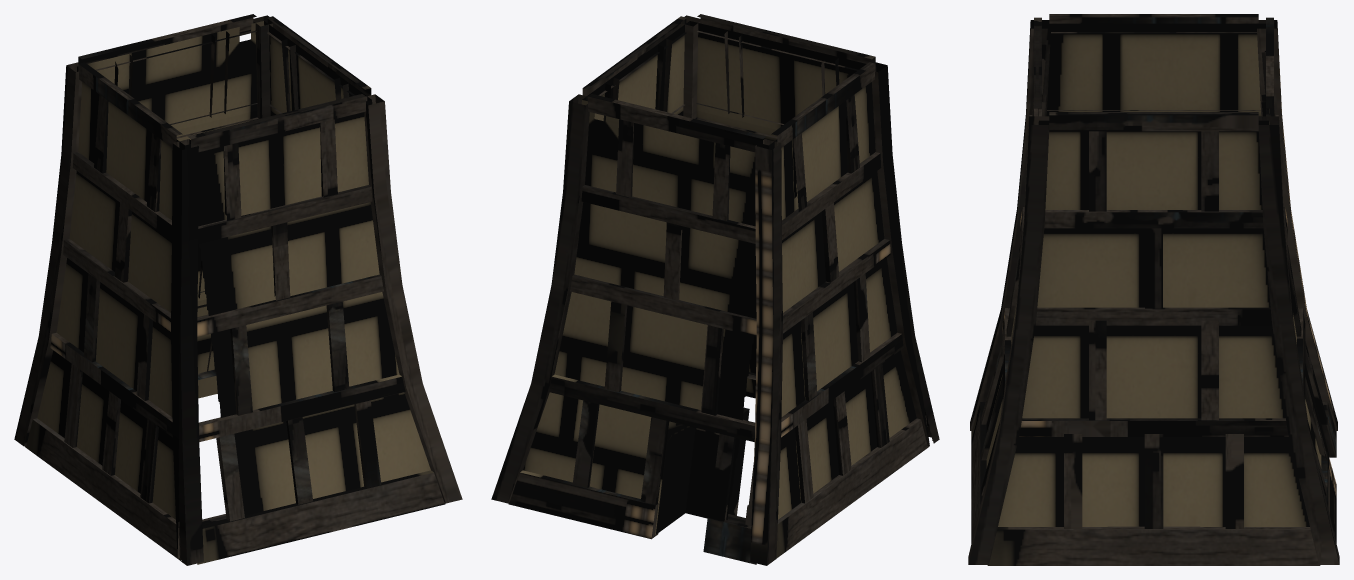
File: MS_Windmill4.fbx
The picture shows the model from 3 angles, left to right: view 1: azimuth 30°, elevation 25°; view 2: azimuth 150°, elevation 25°; view 3: azimuth 270°, elevation 25°; orthographic projection. The views are drawn at different scales.
Visible parts, largest first — view 1: Cube.007; view 2: Cube.007; view 3: Cube.007.
Part boxes in pixels (x1,y1,x2,y2): Cube.007: [14, 14, 462, 565]; Cube.007: [491, 14, 939, 565]; Cube.007: [968, 14, 1339, 565].
Bounding box in the file's own units: 760 × 1054 × 835.
1 material, 1 textured.
